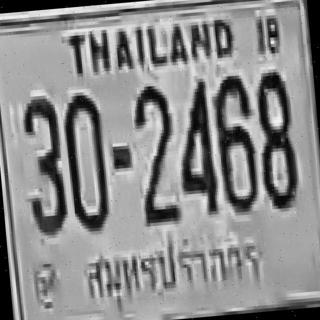N00: (60, 88, 109, 230)
N02: (132, 82, 178, 224)
N03: (19, 91, 68, 233)
N04: (172, 75, 218, 214)
N06: (210, 71, 258, 210)
N08: (253, 68, 297, 206)
P57: (76, 225, 270, 316)
